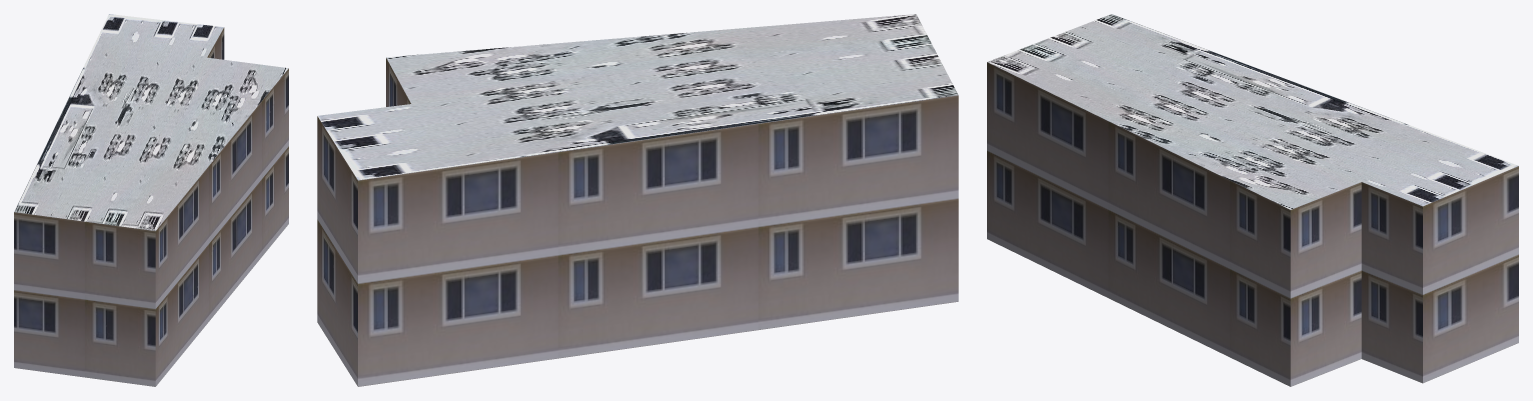
File: ResTex__3124.fbx
3 renders of one model, left to right at view 1: azimuth 30°, elevation 25°; view 2: azimuth 150°, elevation 25°; view 3: azimuth 270°, elevation 25°, orthographic. The views are drawn at different scales.
Parts seen in each view (by area): view 1: CityEngineMaterial_21_m, CityEngineMaterial_m; view 2: CityEngineMaterial_21_m, CityEngineMaterial_m; view 3: CityEngineMaterial_21_m, CityEngineMaterial_m.
Part boxes in pixels (x1=…): CityEngineMaterial_21_m: x1=14, y1=27, x2=288, y2=386; CityEngineMaterial_m: x1=14, y1=14, x2=288, y2=230; CityEngineMaterial_21_m: x1=317, y1=58, x2=958, y2=386; CityEngineMaterial_m: x1=317, y1=14, x2=958, y2=180; CityEngineMaterial_21_m: x1=987, y1=62, x2=1518, y2=386; CityEngineMaterial_m: x1=987, y1=14, x2=1518, y2=209.
Bounding box in the file's own units: 14.23 × 6 × 16.33.
Materials: 2 (2 with a texture image).
